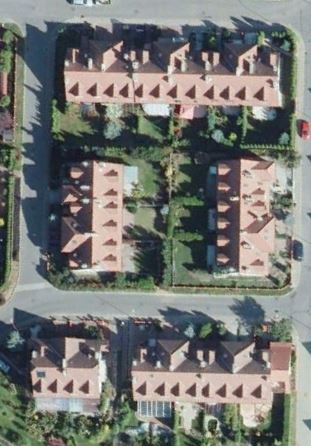family house: (26, 332, 111, 404)
terrace house: (58, 36, 290, 112), (125, 333, 295, 422), (195, 157, 282, 276), (55, 154, 133, 277)
